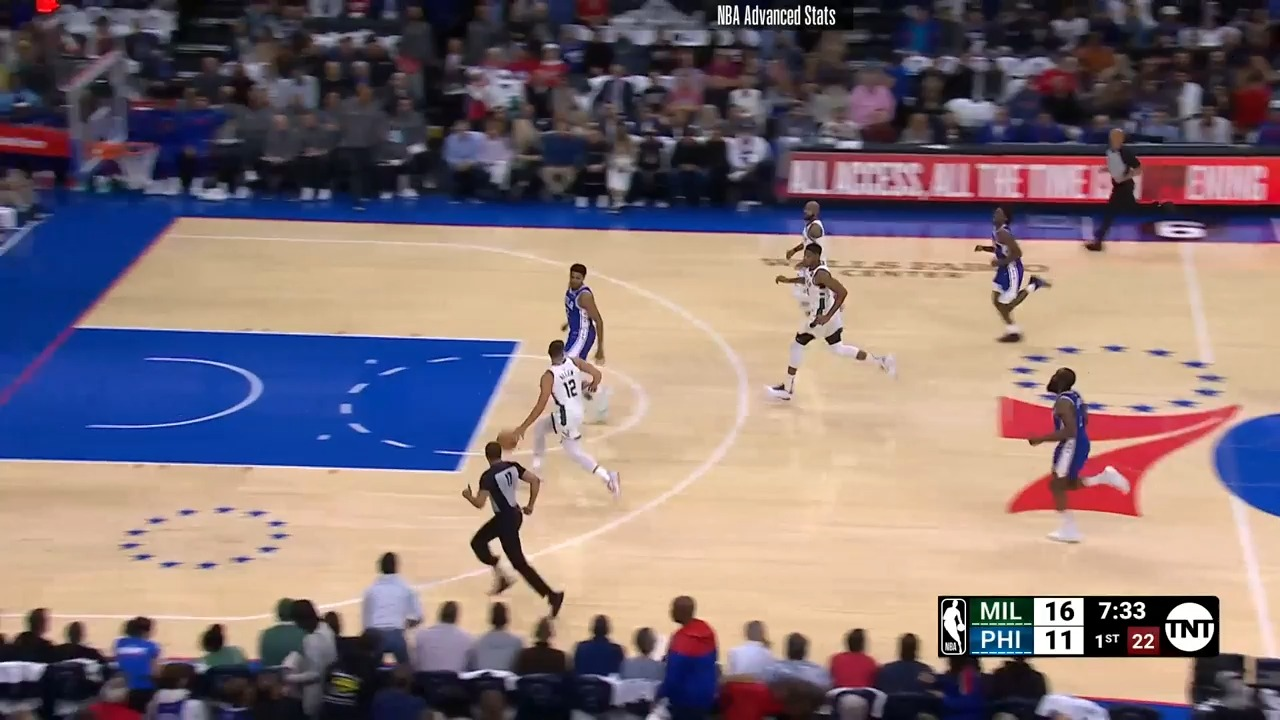net: (93, 135, 162, 200)
player: (1009, 366, 1148, 549), (764, 239, 903, 406), (507, 334, 629, 509), (965, 205, 1050, 349), (552, 261, 620, 428), (781, 195, 831, 318)
referee: (455, 430, 561, 613), (1087, 121, 1166, 258)
